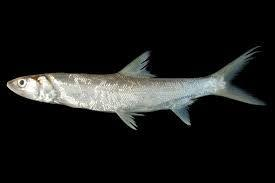Tenpounder: (6, 46, 266, 130)
